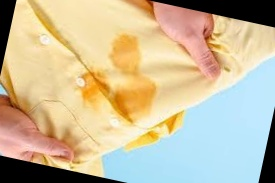mustard: (108, 73, 159, 122), (106, 32, 143, 80), (79, 72, 111, 109)
